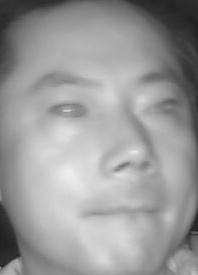eye: (50, 97, 94, 125), (143, 94, 180, 118)
mouth: (85, 192, 163, 234)
